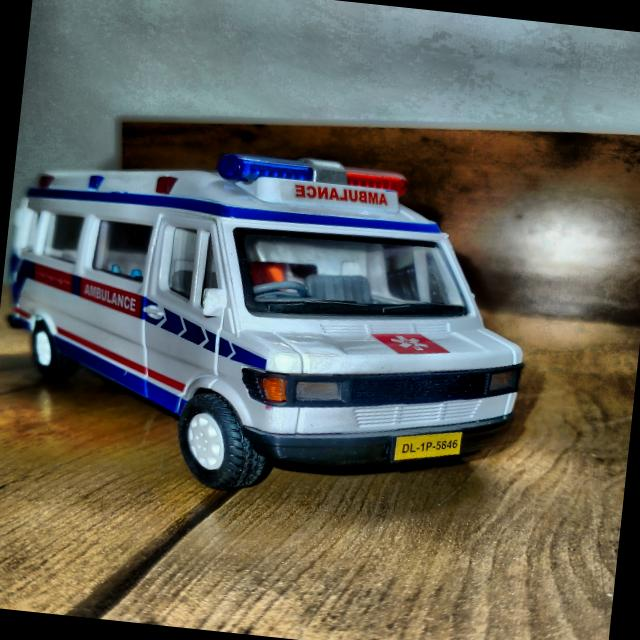Ambulance: (0, 129, 541, 519)
